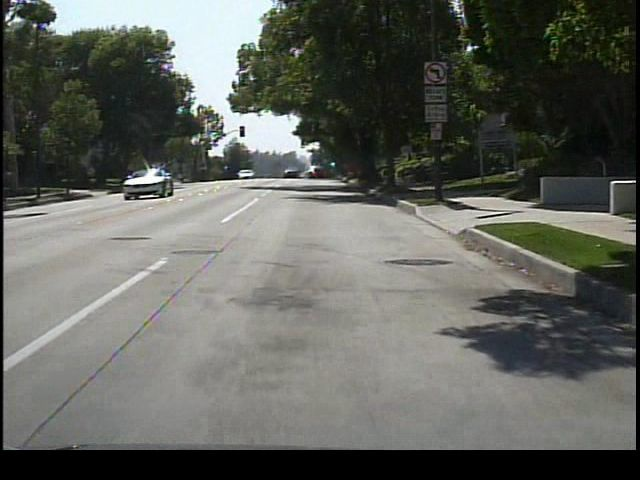person: (413, 152, 433, 167)
